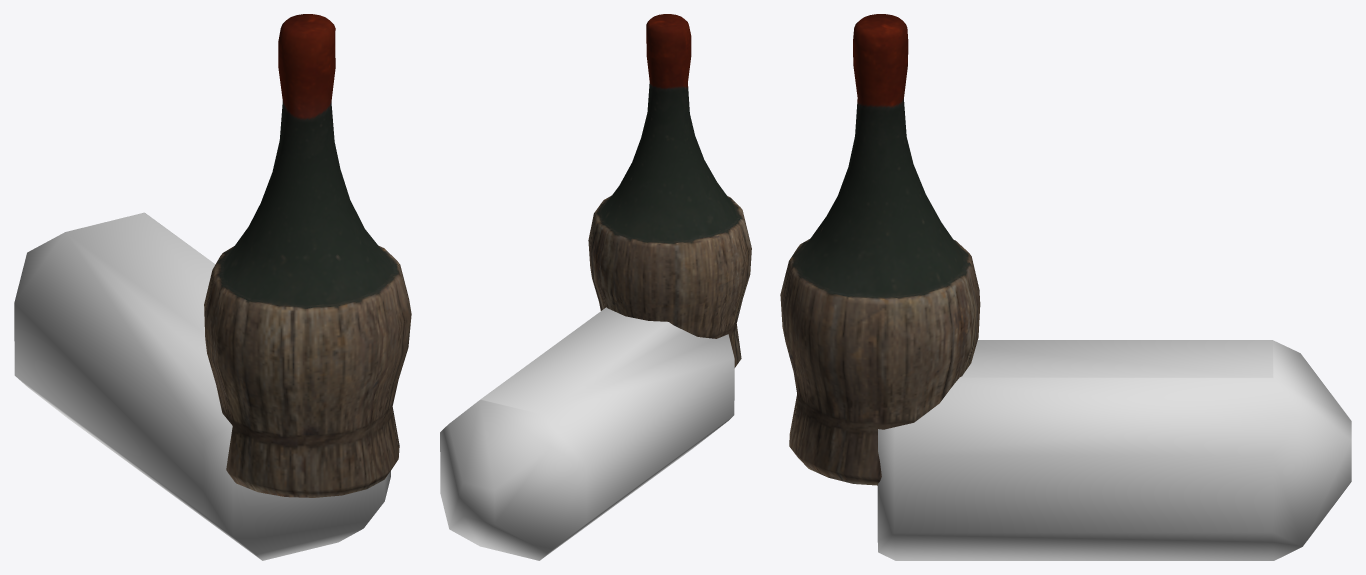
File: SM_Bottle_C.fbx
3 views of the same model, side by side, from view 1: azimuth 30°, elevation 25°; view 2: azimuth 150°, elevation 25°; view 3: azimuth 270°, elevation 25° (orthographic). The views are drawn at different scales.
Visible parts, largest first — view 1: SM_Bottle_C, SM_Bottle_C_ConvexHulls; view 2: SM_Bottle_C_ConvexHulls, SM_Bottle_C; view 3: SM_Bottle_C_ConvexHulls, SM_Bottle_C.
Boxes of the visible parts, x1=… form: SM_Bottle_C: x1=204, y1=14, x2=411, y2=497; SM_Bottle_C_ConvexHulls: x1=14, y1=212, x2=390, y2=560; SM_Bottle_C_ConvexHulls: x1=440, y1=307, x2=734, y2=560; SM_Bottle_C: x1=588, y1=14, x2=751, y2=367; SM_Bottle_C_ConvexHulls: x1=877, y1=340, x2=1351, y2=560; SM_Bottle_C: x1=780, y1=14, x2=980, y2=485.
Size of the model in its own units: 0.1666 by 0.4597 by 0.4581.
